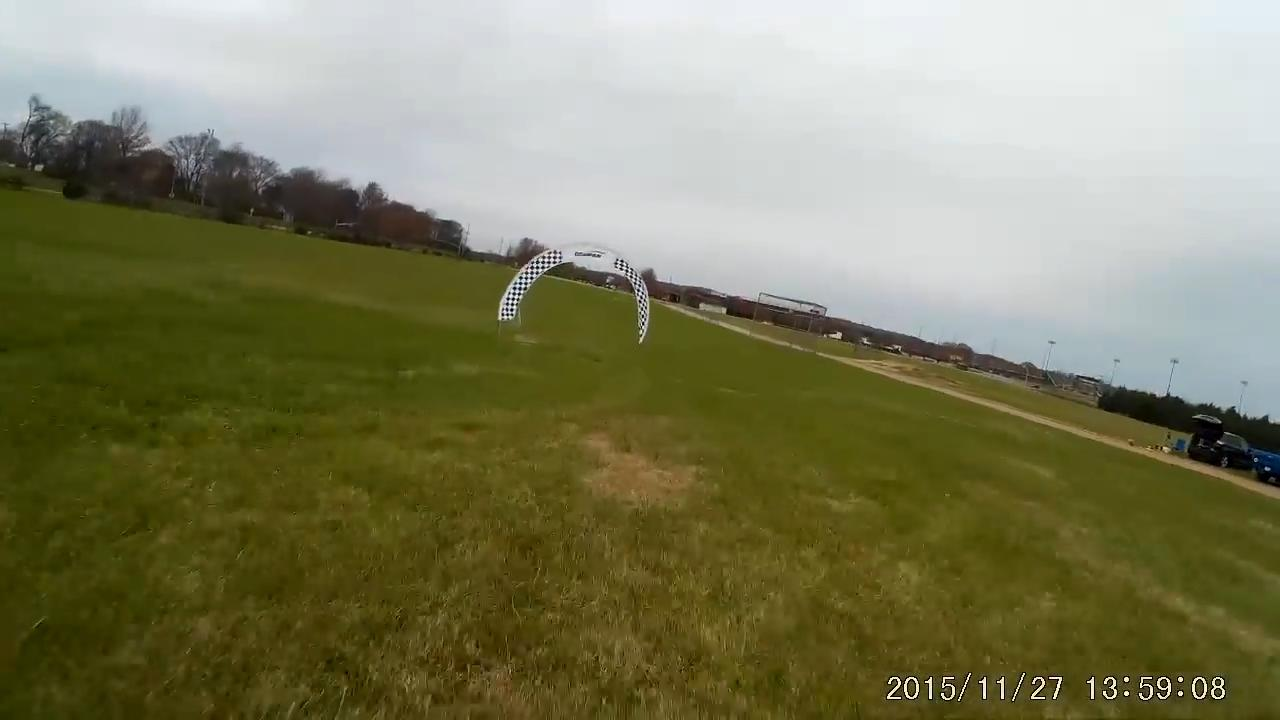gate: (495, 242, 649, 347)
